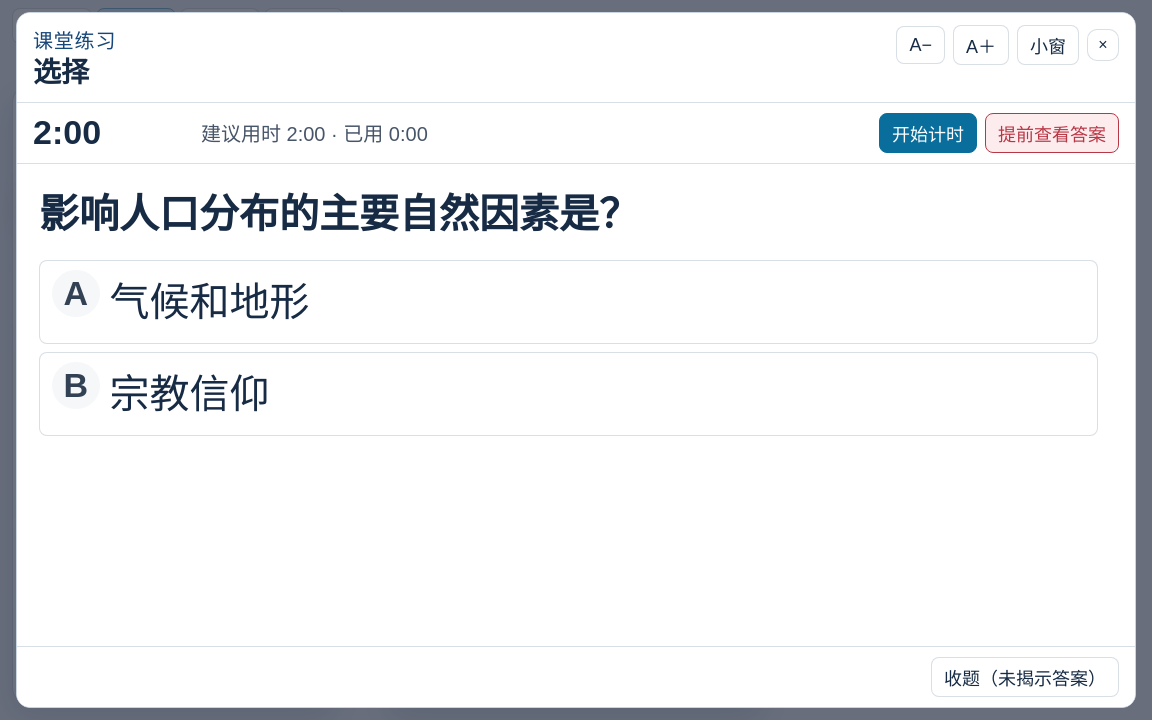
Test: LessonWorkflowShell projection mini card › moves the projected question between the fullscreen modal and the draggable mini card
The image size is (1152, 720).
// 全屏 → 小窗：同一道题出现在悬浮小卡里，计时控件齐全，服务端计时照常工作。
Click the button with test id "qpm-minimize". click: (1048, 45)
box: x1=1017 y1=25 x2=1079 y2=65
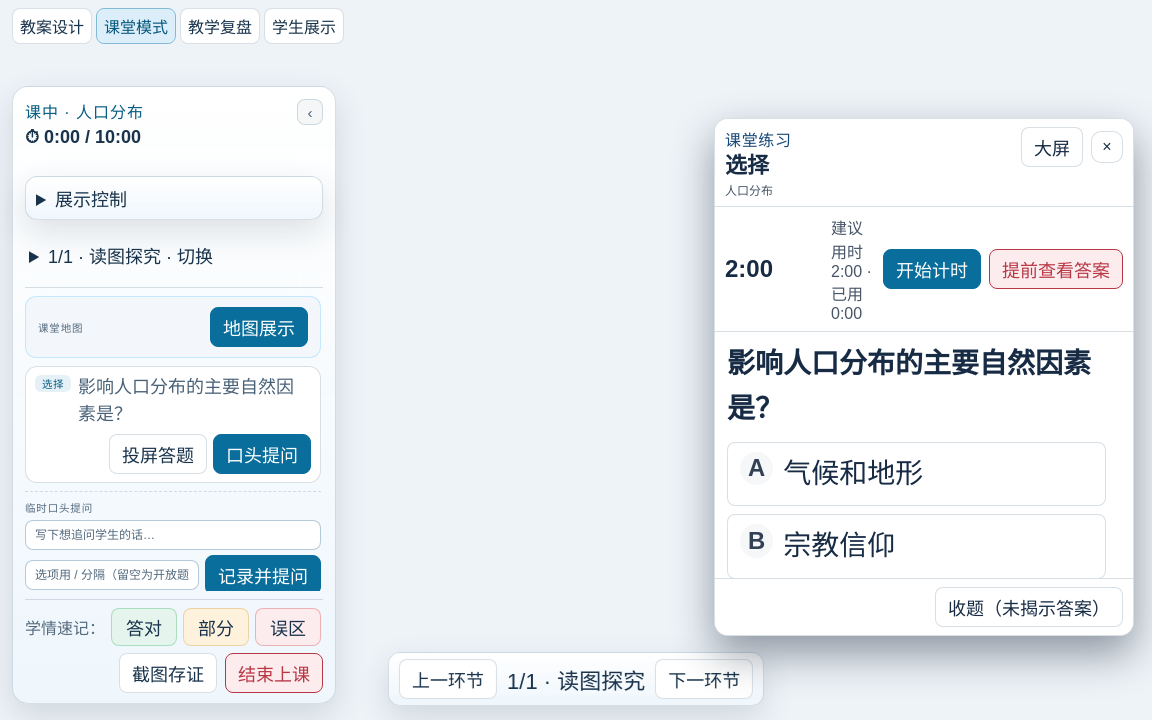
Check: the text with test id "qpm-clock" reads "2:00", box x1=725 y1=255 x2=773 y2=282
Check: the button with test id "qpm-expand" is shown, box x1=1021 y1=127 x2=1083 y2=167
Click the button with test id "qpm-start". click: (932, 269)
box: x1=883 y1=249 x2=981 y2=289
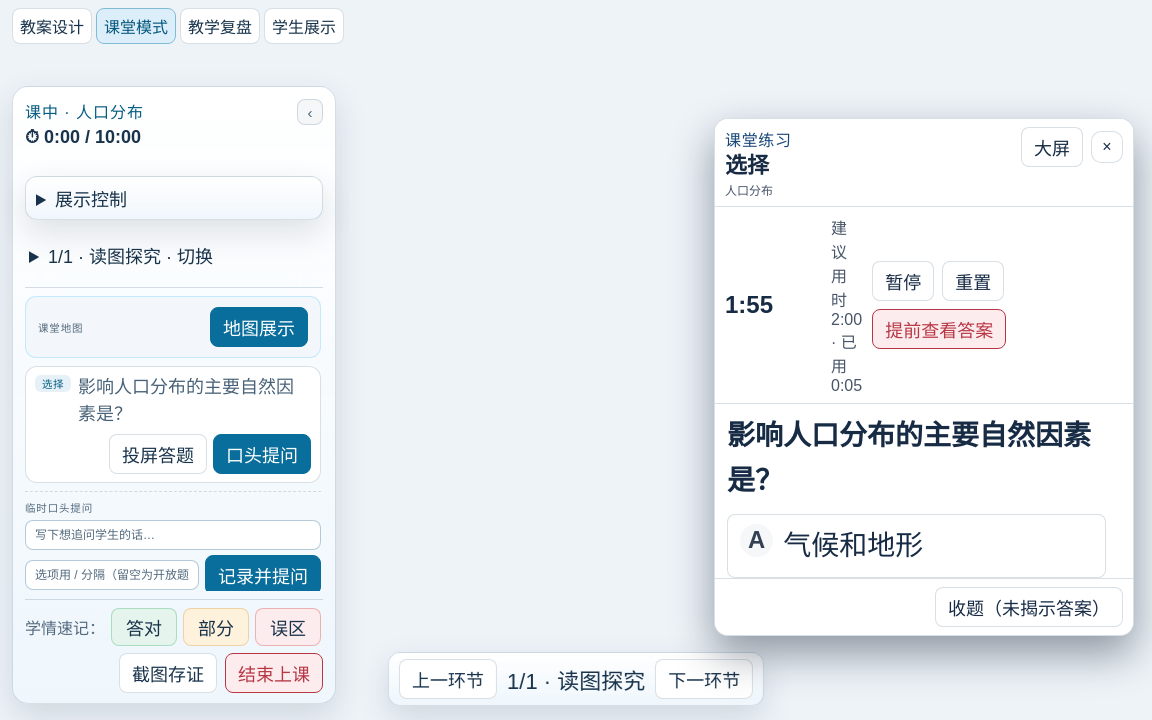
Check: the button with test id "qpm-pause" is shown, box x1=872 y1=261 x2=934 y2=301
// 小窗 → 大屏：回到全屏投屏。
Click the button with test id "qpm-expand". click: (1052, 147)
box: x1=1021 y1=127 x2=1083 y2=167
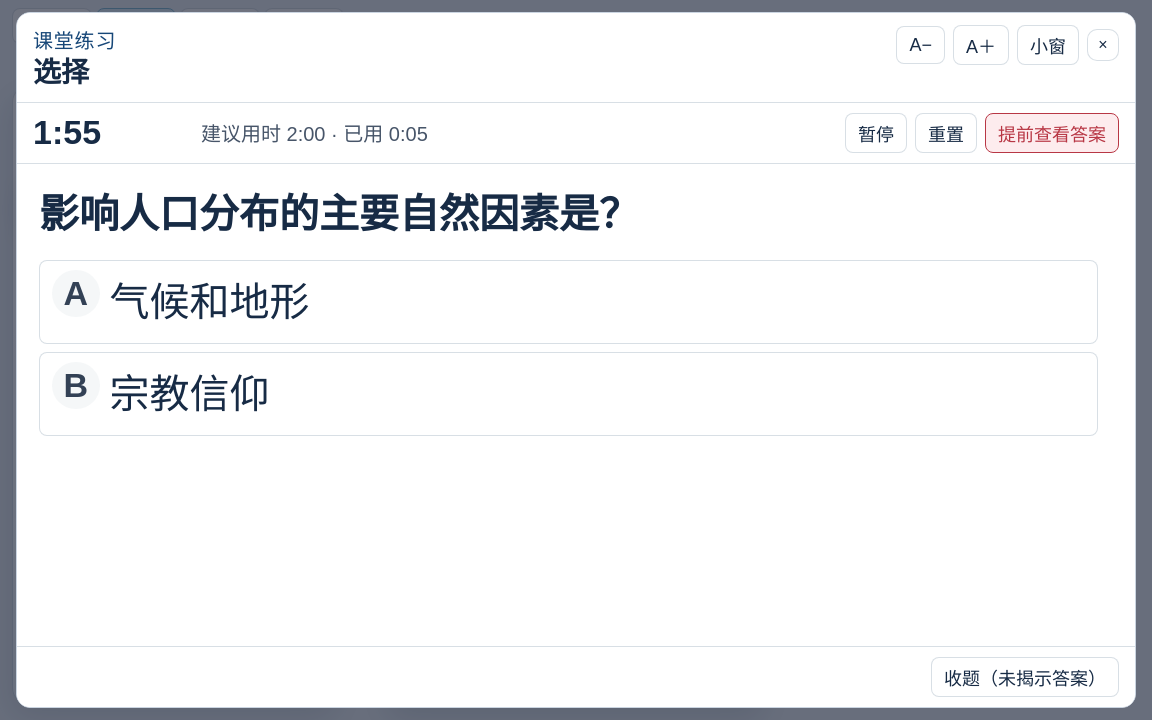
Check: the button with test id "qpm-minimize" is shown, box x1=1017 y1=25 x2=1079 y2=65
